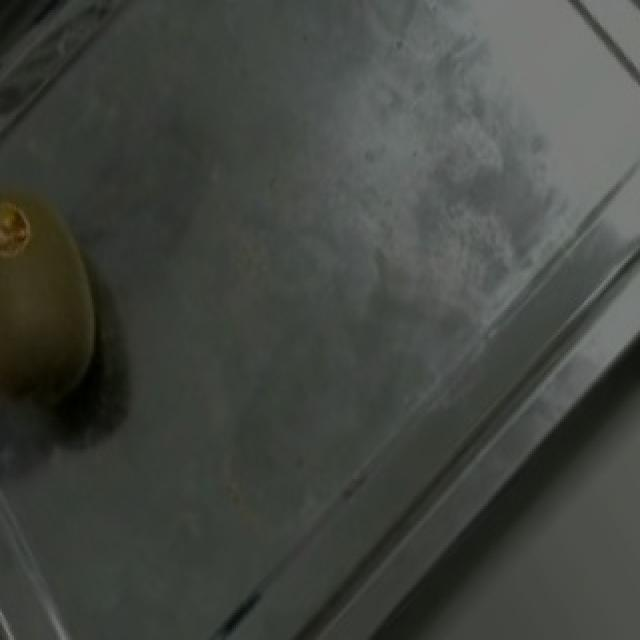Fruit: (0, 152, 140, 424)
